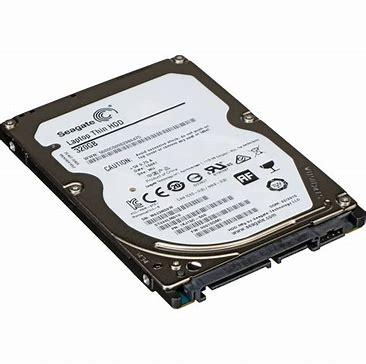internal HDD: (0, 55, 366, 310)
